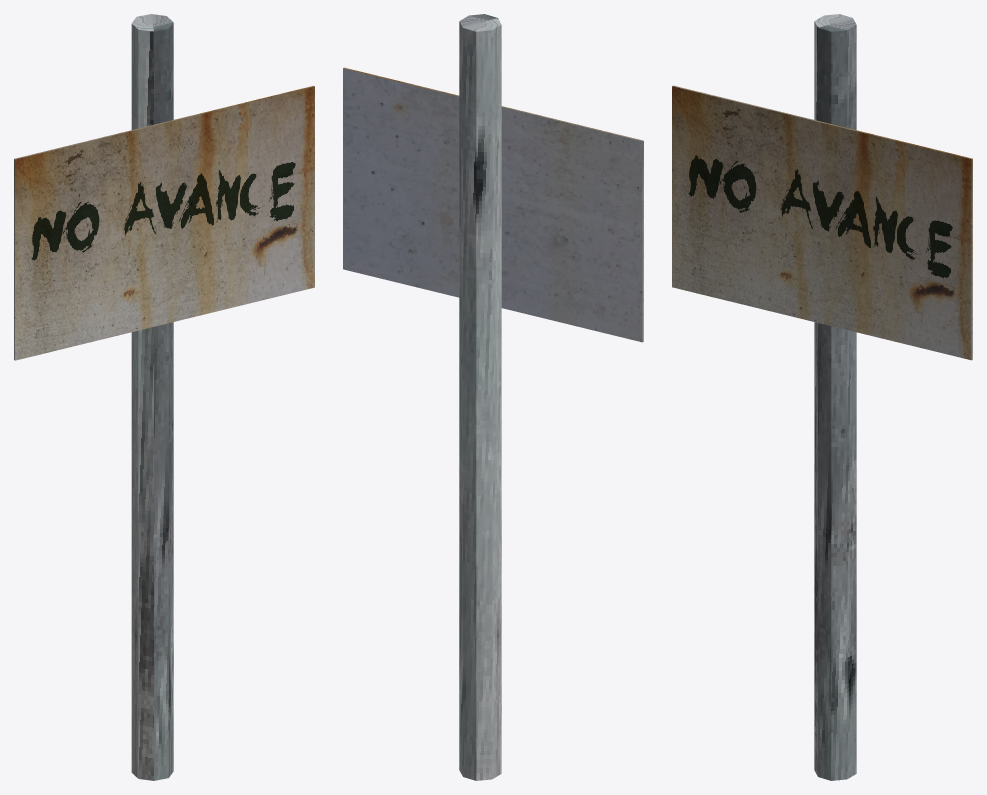
File: NoPasar03.glb
3 renders of one model, left to right at view 1: azimuth 30°, elevation 25°; view 2: azimuth 150°, elevation 25°; view 3: azimuth 330°, elevation 25°, orthographic.
Parts seen in each view (by area): view 1: Cube.050, Cube.051; view 2: Cube.050, Cube.051; view 3: Cube.050, Cube.051.
Boxes of the visible parts, <box> form: Cube.050: <box>14,85,314,360</box>; Cube.051: <box>131,14,173,780</box>; Cube.050: <box>343,67,643,342</box>; Cube.051: <box>459,14,501,780</box>; Cube.050: <box>672,85,972,360</box>; Cube.051: <box>814,14,856,780</box>.
Size of the model in its own units: 0.1858 by 0.4439 by 0.0248.
2 materials, 2 textured.
